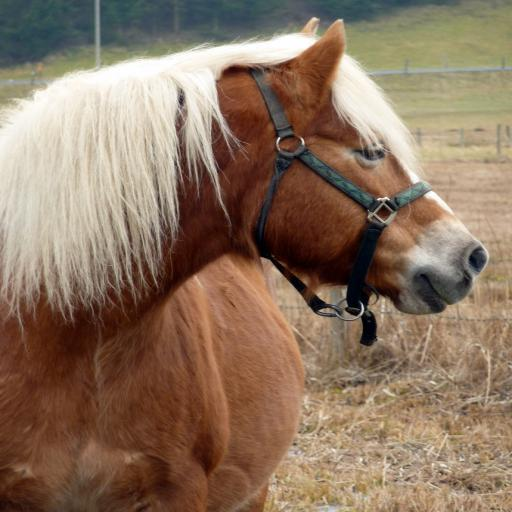horse: (0, 15, 487, 512)
